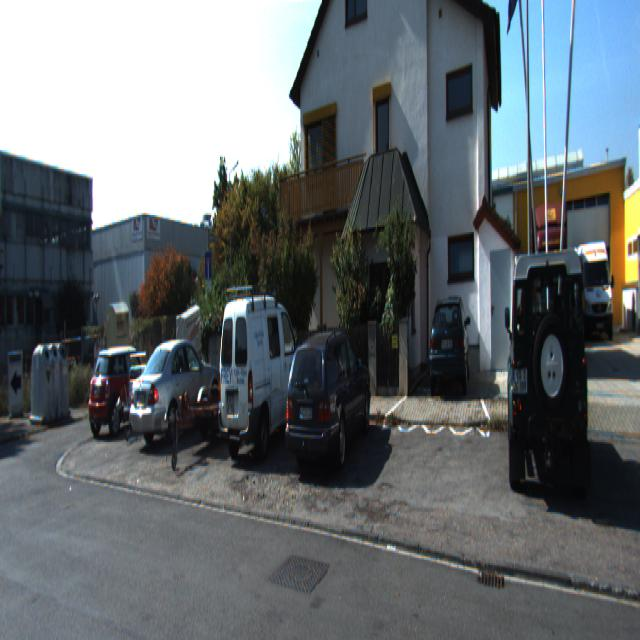Car: (509, 242, 599, 520), (216, 285, 311, 468), (139, 359, 272, 467), (285, 324, 374, 482), (124, 330, 222, 452), (85, 342, 158, 438), (105, 345, 170, 443), (532, 196, 568, 348), (428, 288, 472, 396), (574, 230, 615, 342), (170, 304, 200, 382)
